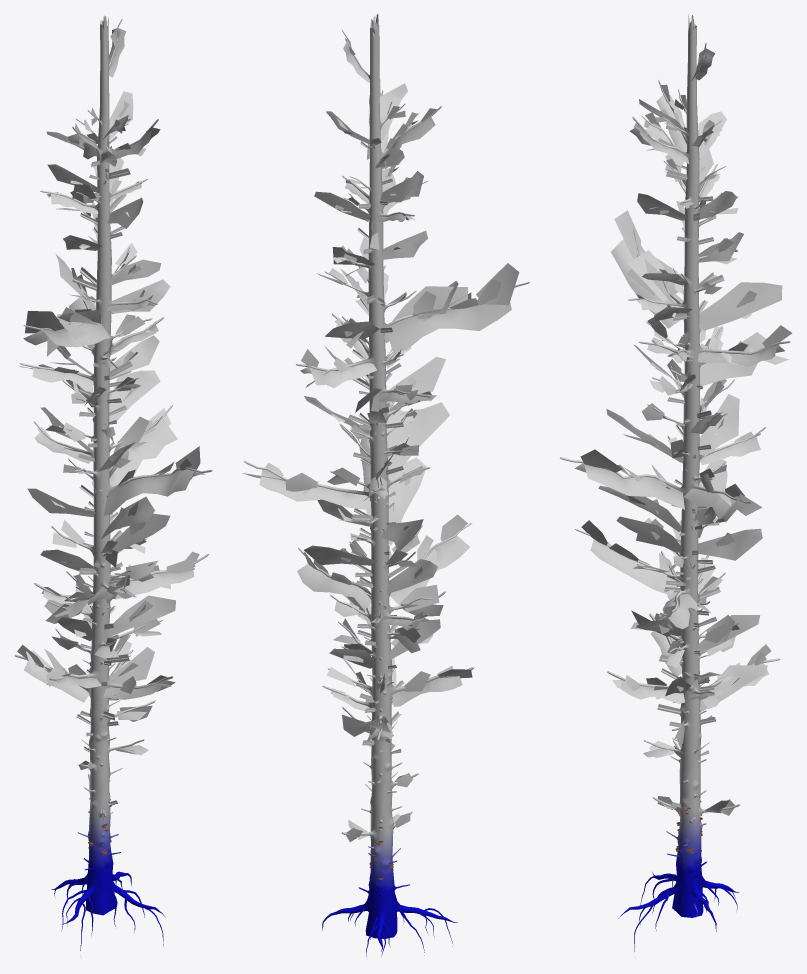
The model's file is Dead_tree1_LOD0.fbx.
3 renders of one model, left to right at view 1: azimuth 30°, elevation 25°; view 2: azimuth 150°, elevation 25°; view 3: azimuth 270°, elevation 25°, orthographic. The views are drawn at different scales.
Parts seen in each view (by area): view 1: polySurface3351; view 2: polySurface3351; view 3: polySurface3351.
Boxes of the visible parts, x1,y1,x2,y2 form: polySurface3351: [14, 15, 212, 950]; polySurface3351: [242, 14, 529, 956]; polySurface3351: [560, 14, 792, 951].
Bounding box in the file's own units: 635 × 2612 × 593.
